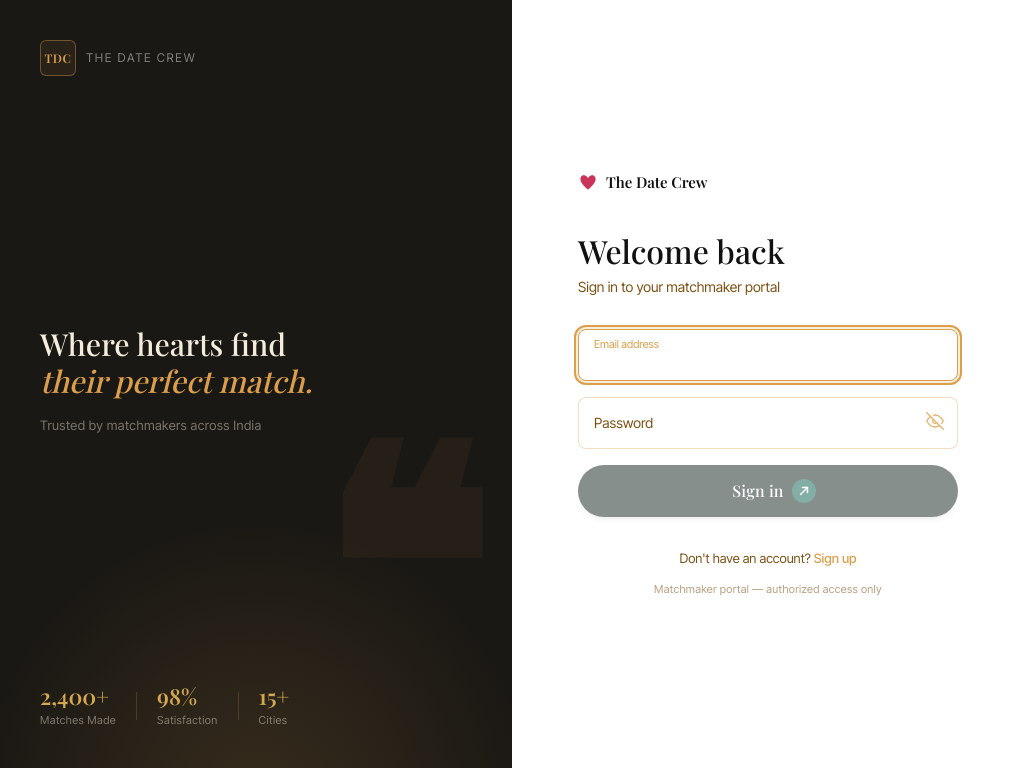
Test: LoginPage — submission › shows fallback error for unknown error codes
In the field labelled "Email address": (768, 355) [578, 329, 958, 381], type "a@b.com"
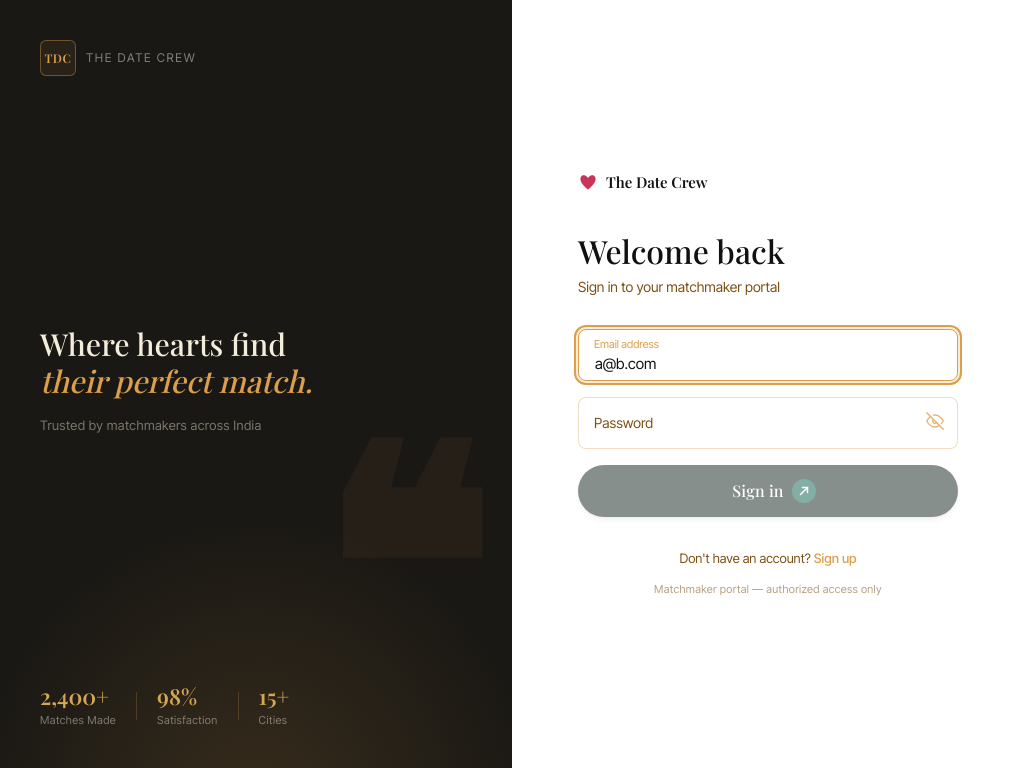
In the password field labelled "Password": (768, 423) [578, 397, 958, 449], type "p"
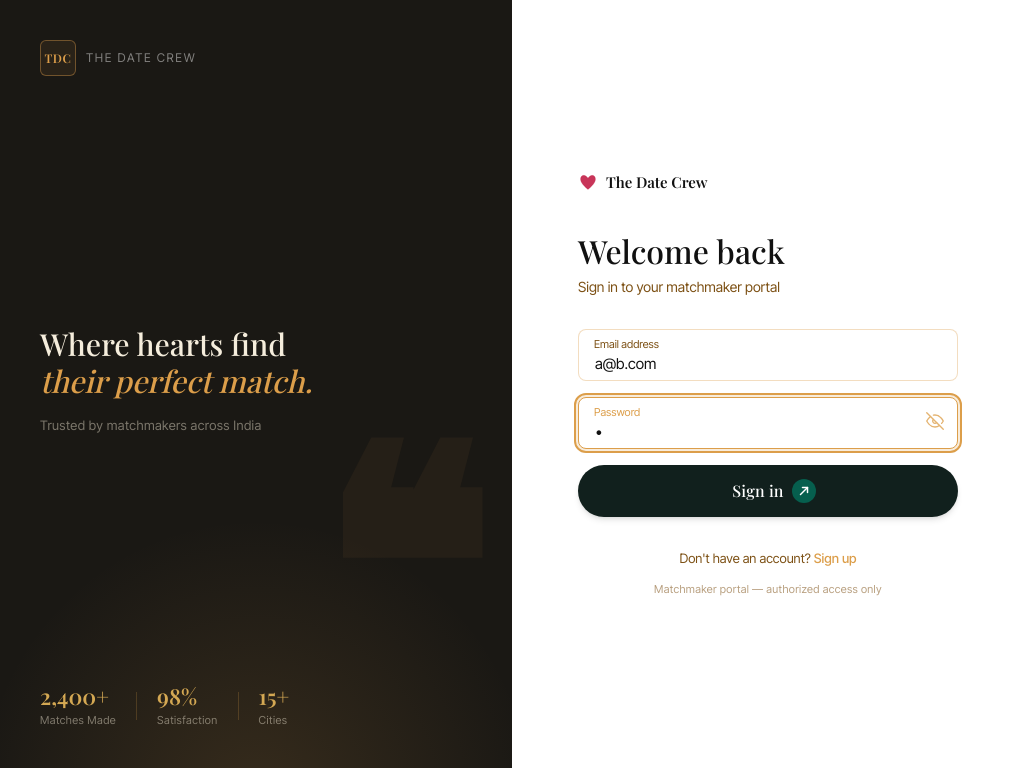
Click the button "Sign in": (768, 491) [578, 465, 958, 517]
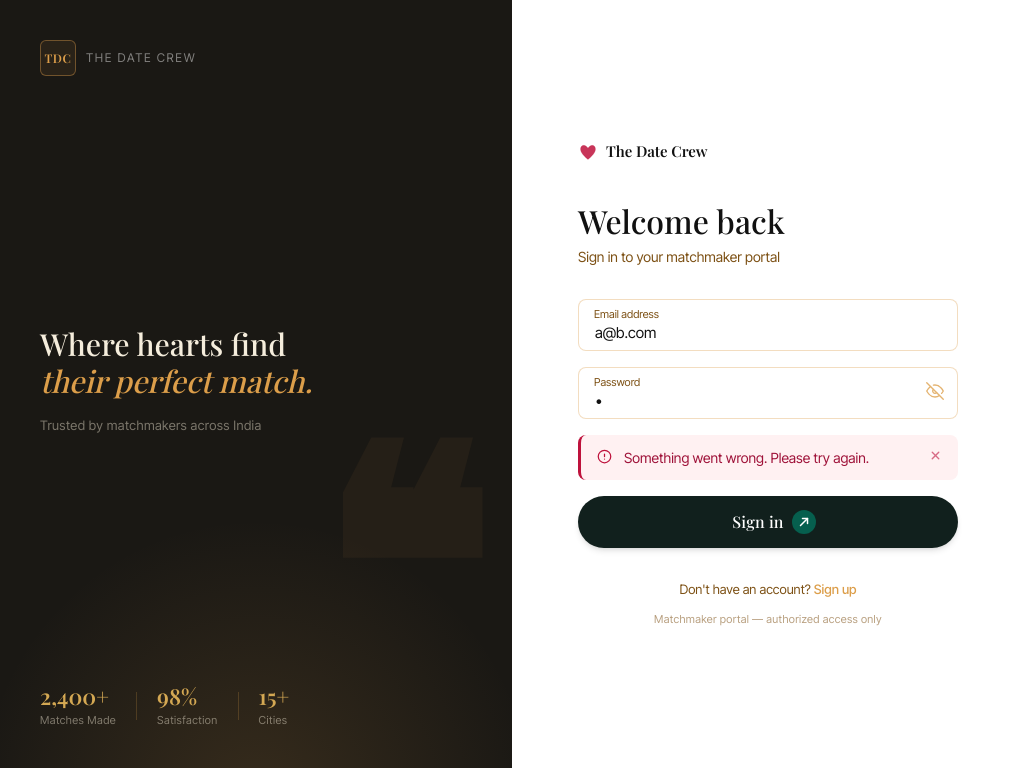
Expected: the message shows "Something went wrong", [624, 449, 869, 466]
